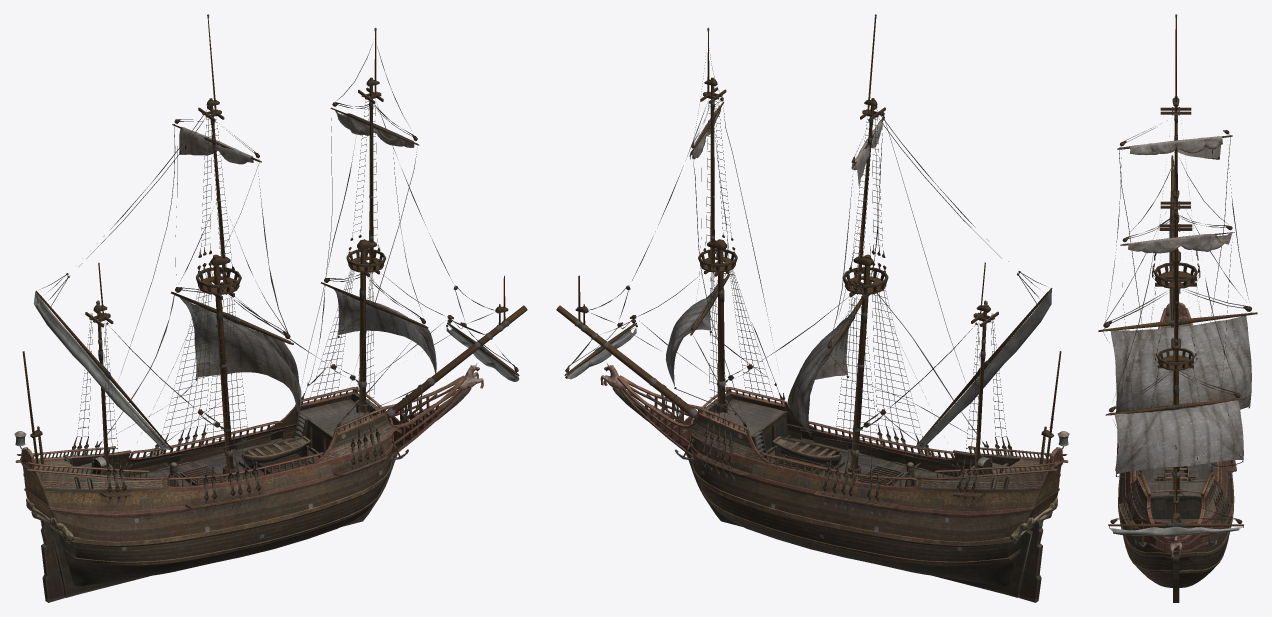
File: ship.glb
The picture shows the model from 3 angles, left to right: view 1: azimuth 30°, elevation 25°; view 2: azimuth 150°, elevation 25°; view 3: azimuth 270°, elevation 25°; orthographic projection. The views are drawn at different scales.
Parts seen in each view (by area): view 1: dutch_ship_medium_hull, dutch_ship_medium_rigging, dutch_ship_medium_sails; view 2: dutch_ship_medium_hull, dutch_ship_medium_rigging, dutch_ship_medium_sails; view 3: dutch_ship_medium_sails, dutch_ship_medium_rigging, dutch_ship_medium_hull.
Boxes of the visible parts, <box> form: dutch_ship_medium_hull: <box>14,363,483,602</box>; dutch_ship_medium_rigging: <box>22,14,527,515</box>; dutch_ship_medium_sails: <box>179,110,436,419</box>; dutch_ship_medium_hull: <box>600,363,1069,602</box>; dutch_ship_medium_rigging: <box>556,14,1061,516</box>; dutch_ship_medium_sails: <box>665,105,882,434</box>; dutch_ship_medium_sails: <box>1110,136,1251,474</box>; dutch_ship_medium_rigging: <box>1098,14,1257,547</box>; dutch_ship_medium_hull: <box>1115,289,1236,602</box>.
Size of the model in its own units: 24.07 by 24.66 by 6.81.
Materials: 3 (3 with a texture image).
